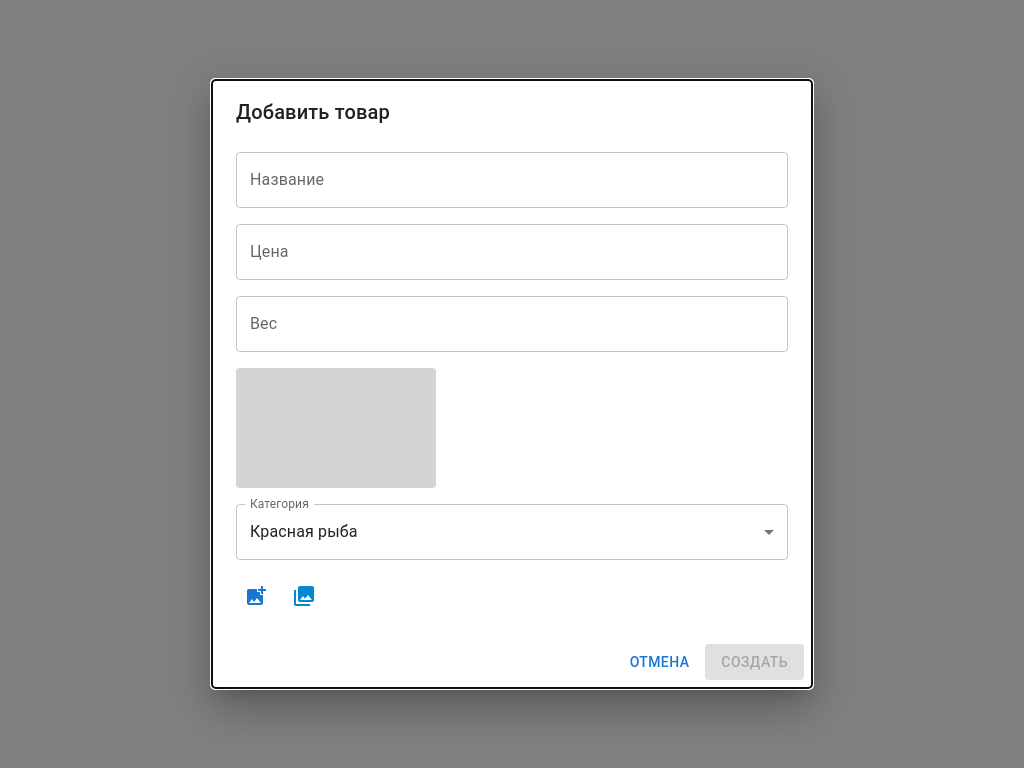
Scenario: AddProductDialog › disables create button when form invalid and enables when valid
expect the button "Создать" is disabled: met, box [705,644,804,680]
Type "Тест" into the field labelled "Название" at [512, 180], box [236,152,788,208]
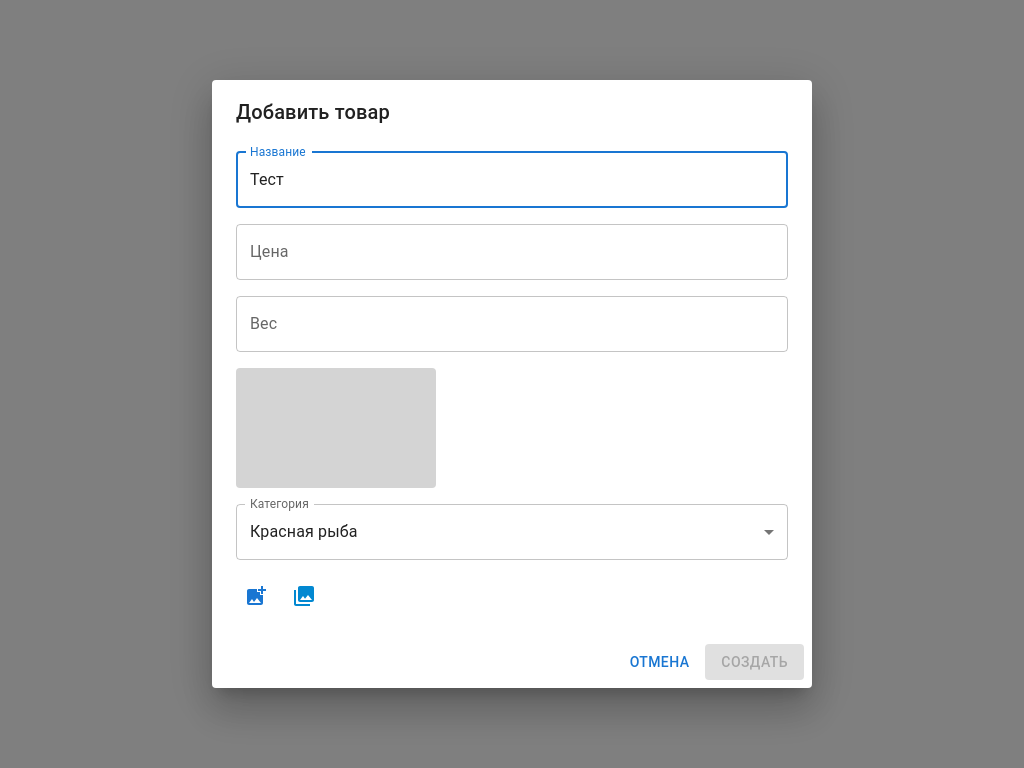
Type "123" into the number field labelled "Цена" at [512, 252], box [236,224,788,280]
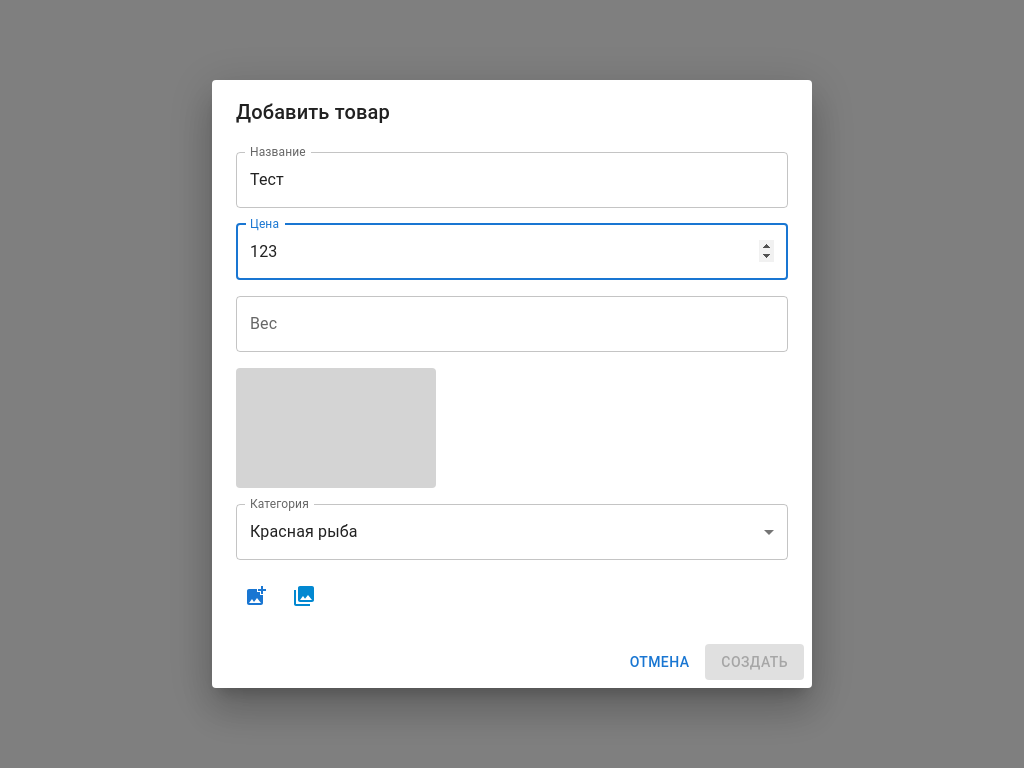
Type "100 г" into the field labelled "Вес" at [512, 324], box [236,296,788,352]
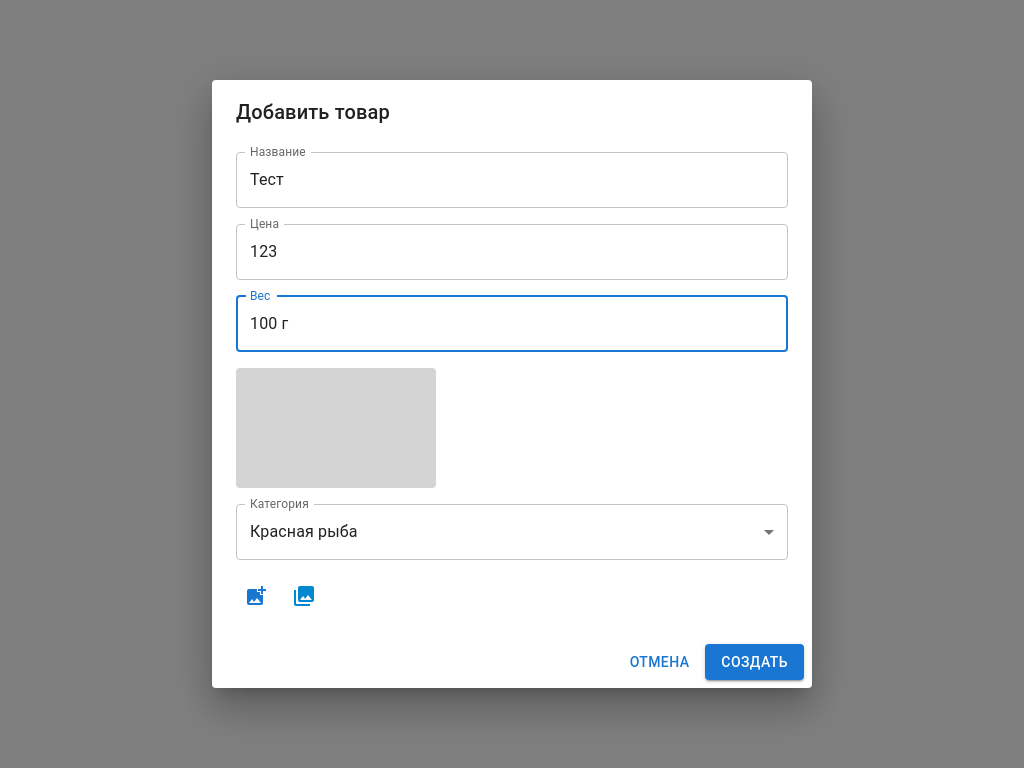
expect the button "Создать" is enabled: met, box [705,644,804,680]
